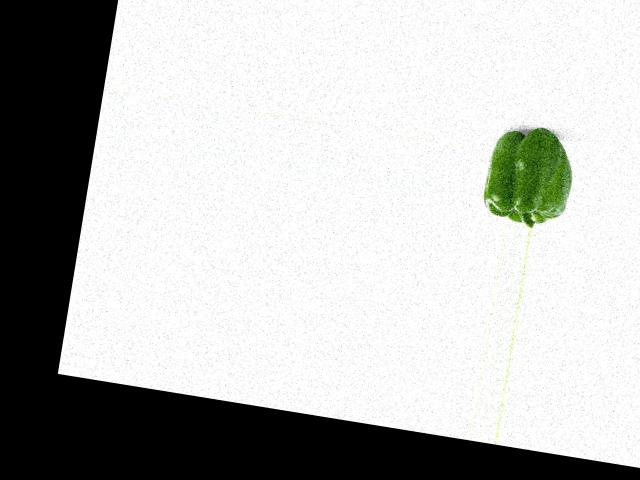bell_pepper: (478, 123, 581, 231)
